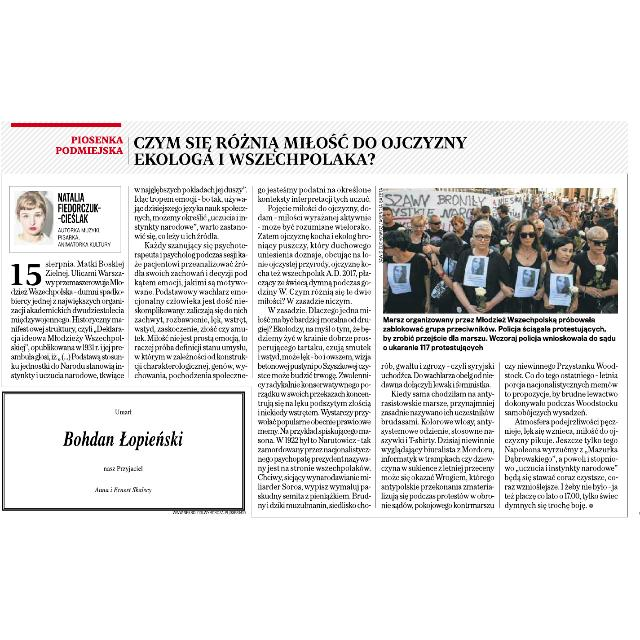author: (54, 188, 102, 225)
body: (255, 183, 373, 512), (130, 183, 250, 381), (502, 356, 622, 512), (378, 358, 498, 510), (7, 254, 128, 382)
caption: (380, 313, 620, 352)
image: (379, 184, 621, 314)
title: (52, 128, 472, 168)
